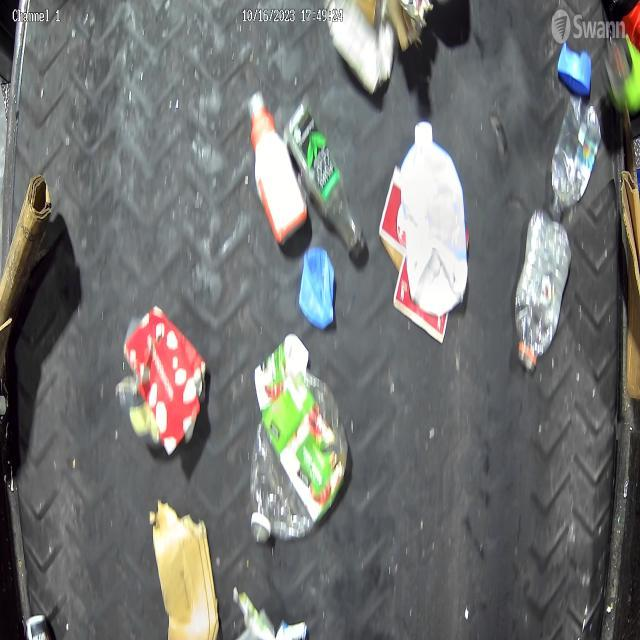milk_jug: (396, 120, 469, 306)
plastic_bottle: (282, 93, 366, 259), (515, 203, 568, 370), (552, 96, 601, 220)
